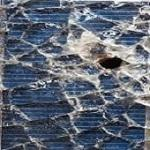Crack: (2, 1, 149, 147)
